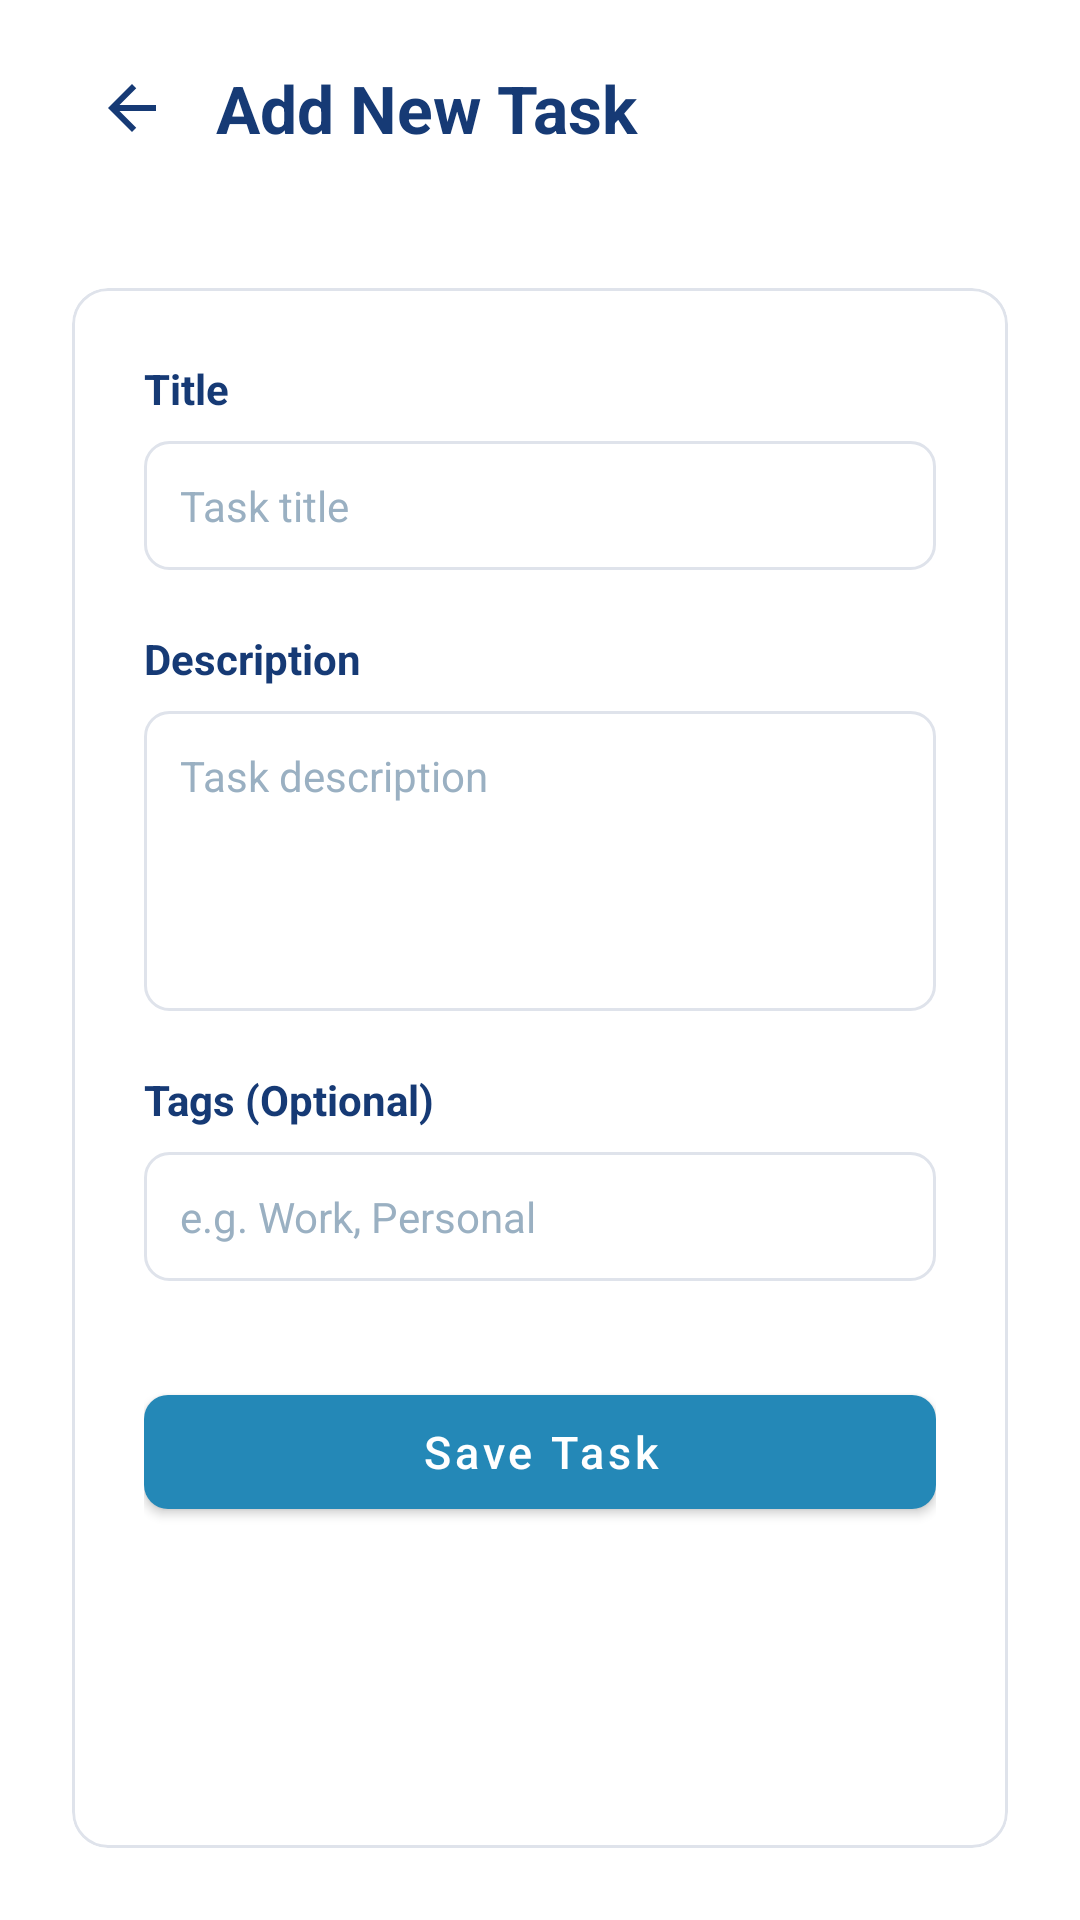

Icon bounding boxes for this 1080 x 1920 phone screenshot, format (x1, y1, x2, y2):
arrow back: (108, 84, 156, 132)
